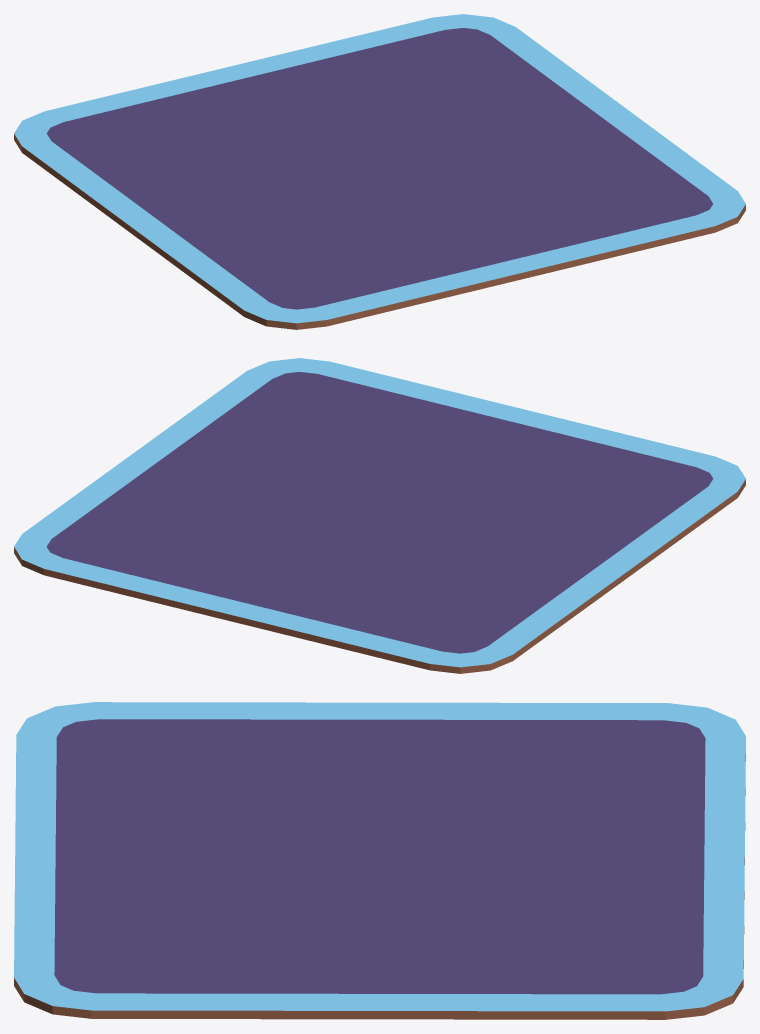
Rendered from Mouse_pad02.fbx.
3 views of the same model, one above another, from view 1: azimuth 30°, elevation 25°; view 2: azimuth 150°, elevation 25°; view 3: azimuth 270°, elevation 25° (orthographic). The views are drawn at different scales.
Visible parts, largest first — view 1: Plane.191; view 2: Plane.191; view 3: Plane.191.
Part boxes in pixels (bbox=[...]): Plane.191: bbox=[14, 14, 745, 329]; Plane.191: bbox=[14, 358, 745, 673]; Plane.191: bbox=[14, 702, 745, 1019].
Size of the model in its own units: 0.6153 by 0.6153 by 0.00777.
